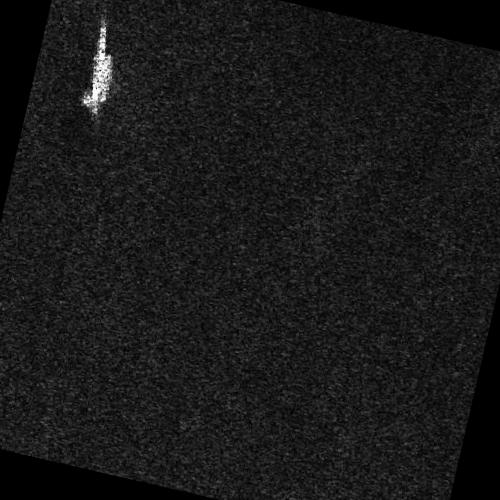ship: (81, 20, 114, 116)
